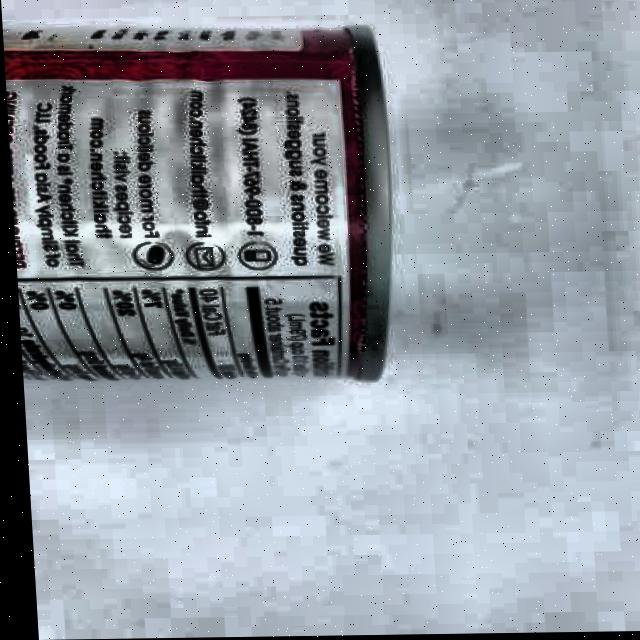metal: (1, 15, 405, 390)
